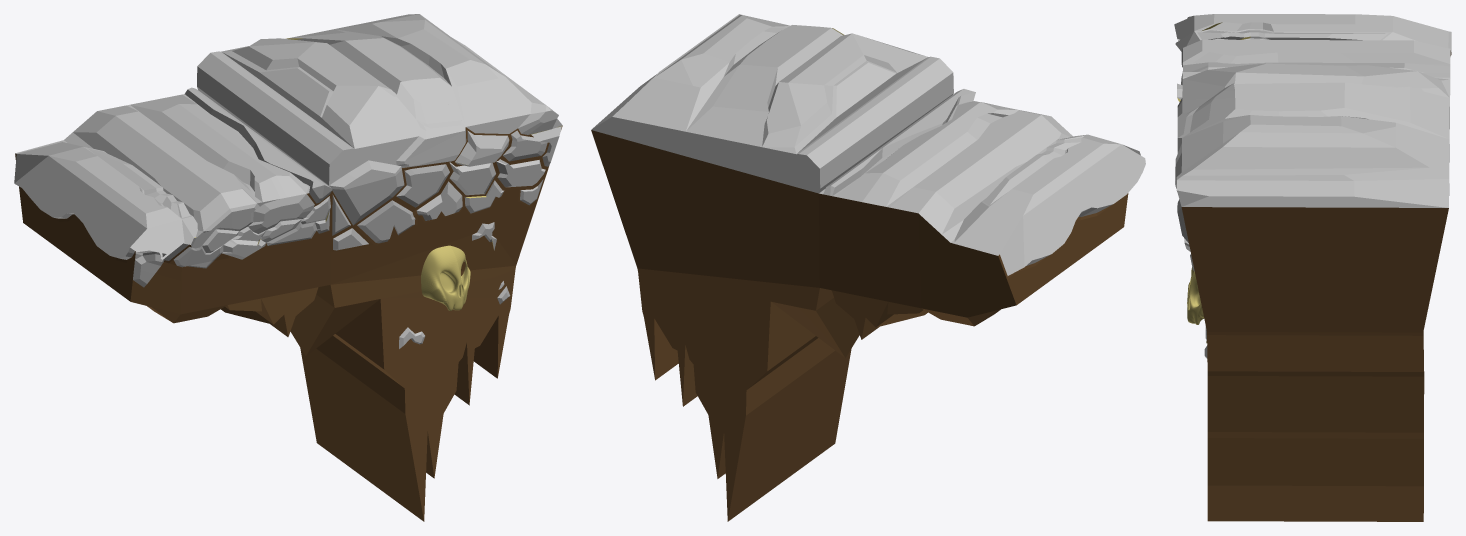
File: PlatformLong.fbx
3 views of the same model, side by side, from view 1: azimuth 30°, elevation 25°; view 2: azimuth 150°, elevation 25°; view 3: azimuth 270°, elevation 25° (orthographic).
Parts seen in each view (by area): view 1: Platform_Long; view 2: Platform_Long; view 3: Platform_Long.
Boxes of the visible parts, x1,y1,x2,y2 form: Platform_Long: (14, 14, 562, 521); Platform_Long: (591, 14, 1145, 521); Platform_Long: (1174, 14, 1451, 521).
Size of the model in its own units: 738 by 709 by 411.
